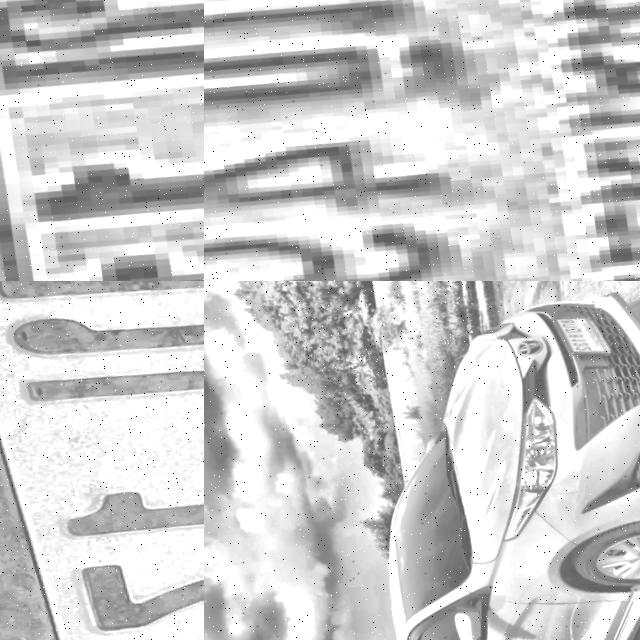license-plate: (204, 0, 640, 281), (0, 281, 204, 640), (0, 0, 204, 281), (551, 302, 617, 358)
